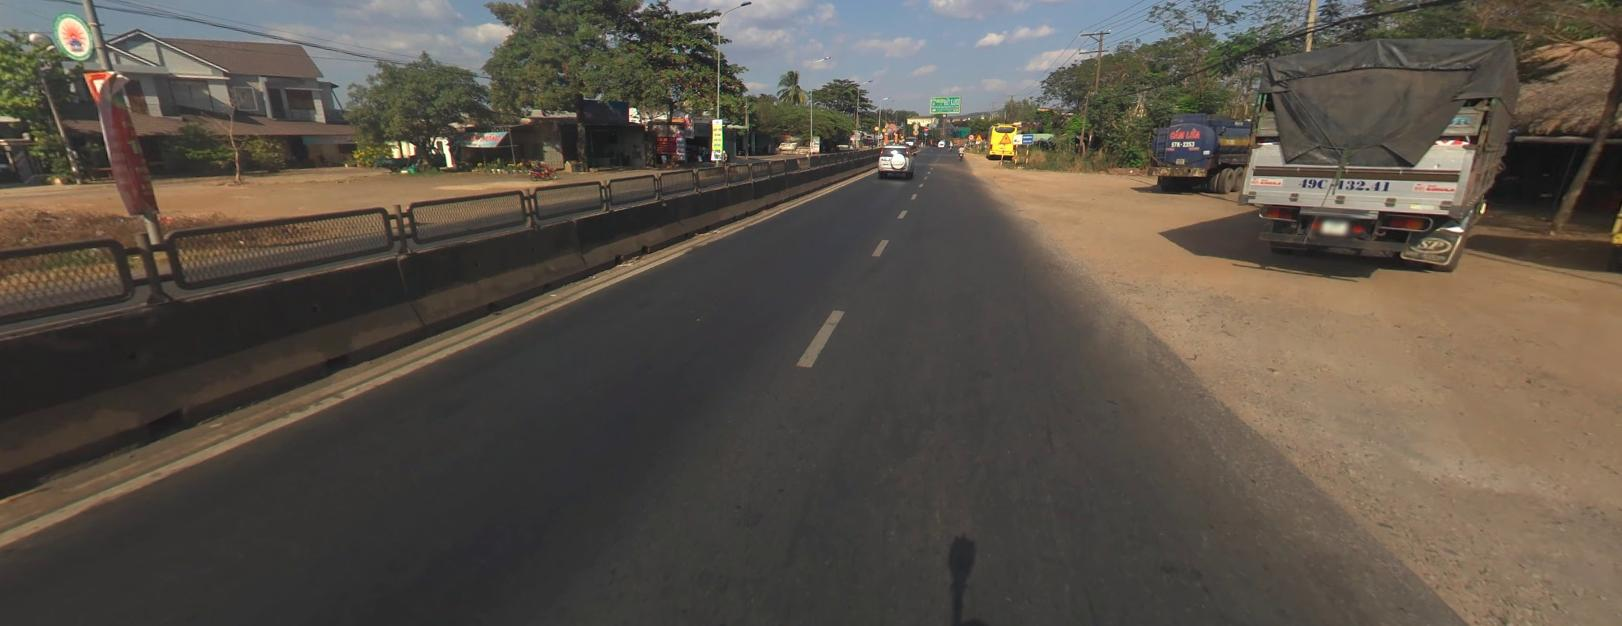Cam con lai: (967, 133, 973, 139)
Nguy hiem: (998, 132, 1011, 143), (975, 132, 982, 138)
